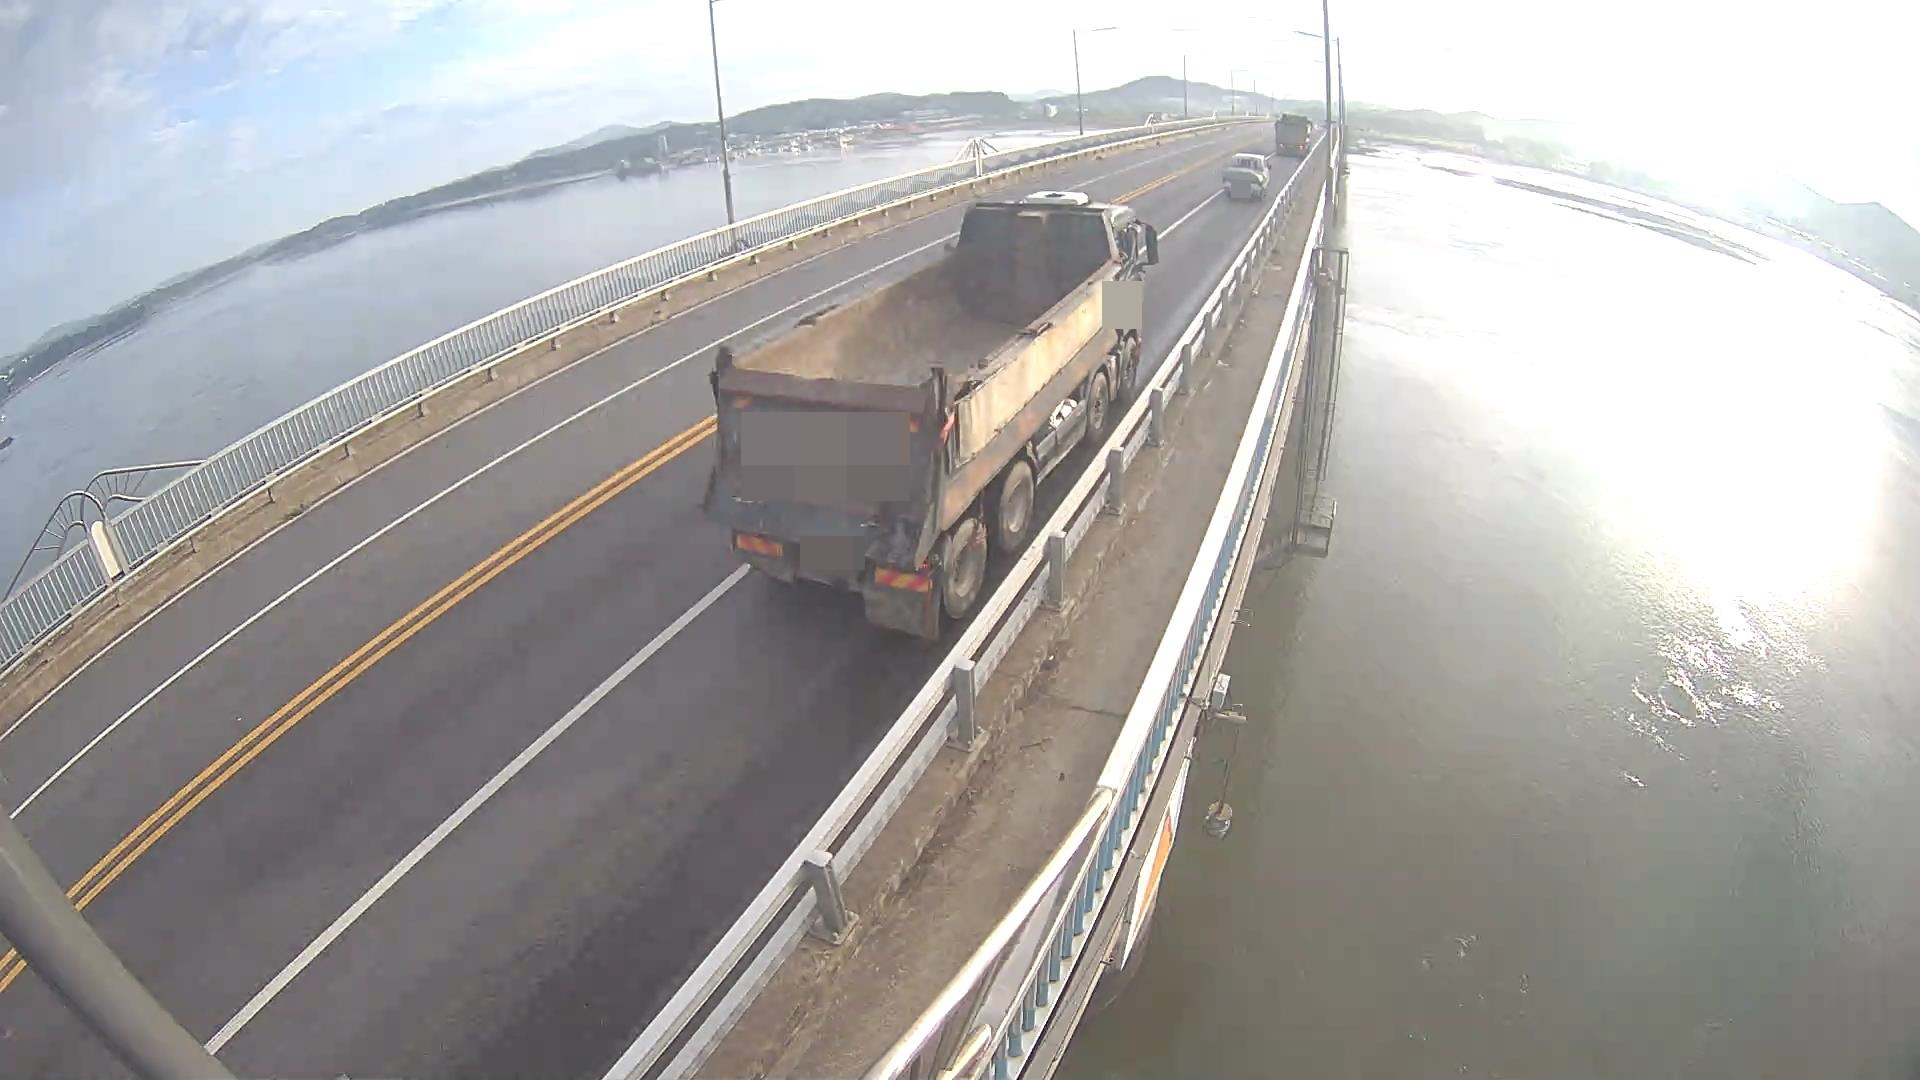정상차량: (704, 189, 1160, 640)
